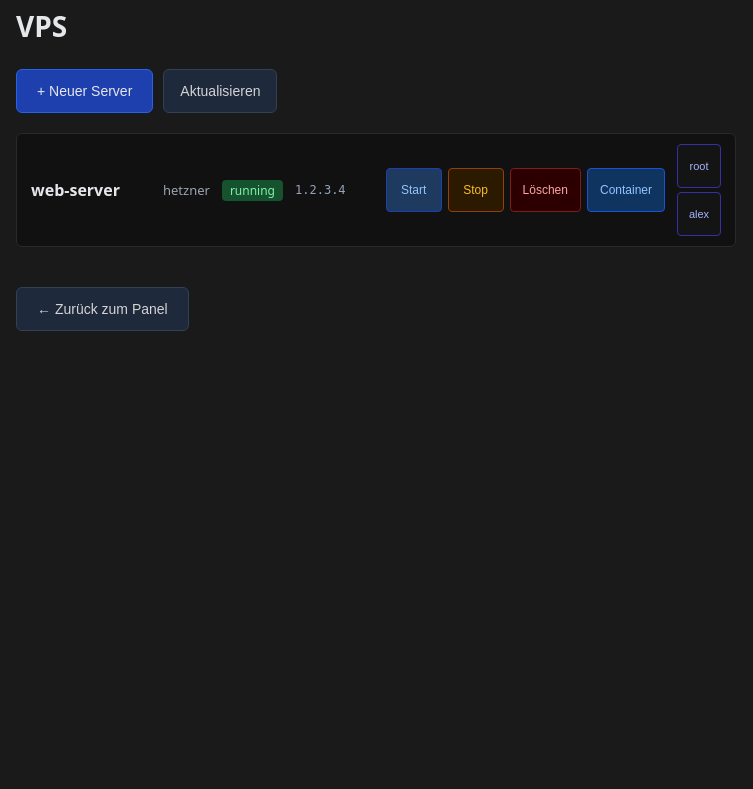
it: VpsContainerOverview — AC4: Aktions-Buttons › 403-Antwort → Berechtigungs-Meldung ohne UI-Crash
Click the button "Container".
click(626, 190)  # box [587, 168, 665, 212]
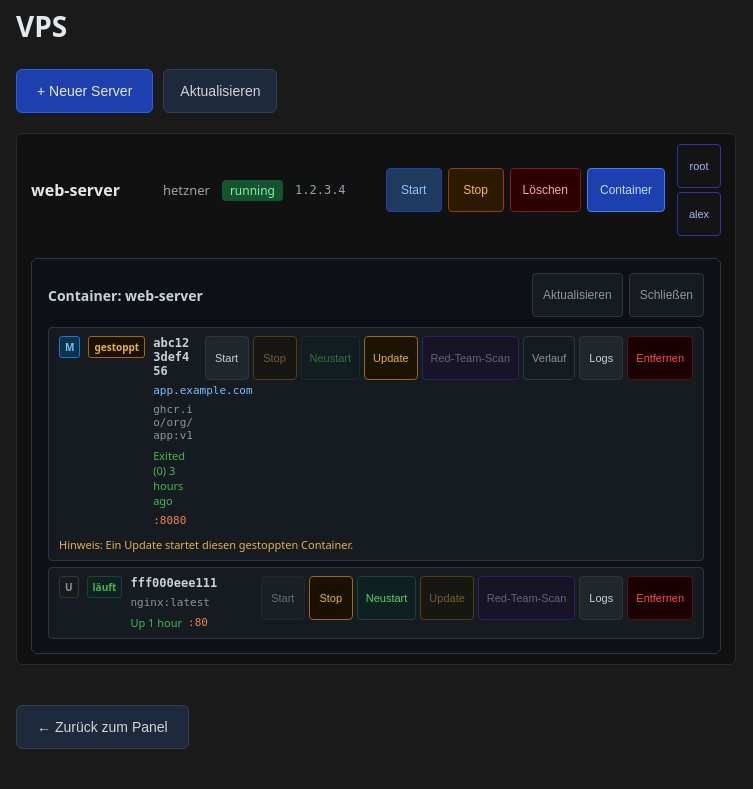
expect the button with aria-label "container abc123def456 starten" is shown: met
Click the button with aria-label "container abc123def456 starten".
click(226, 358)  # box [204, 336, 248, 380]
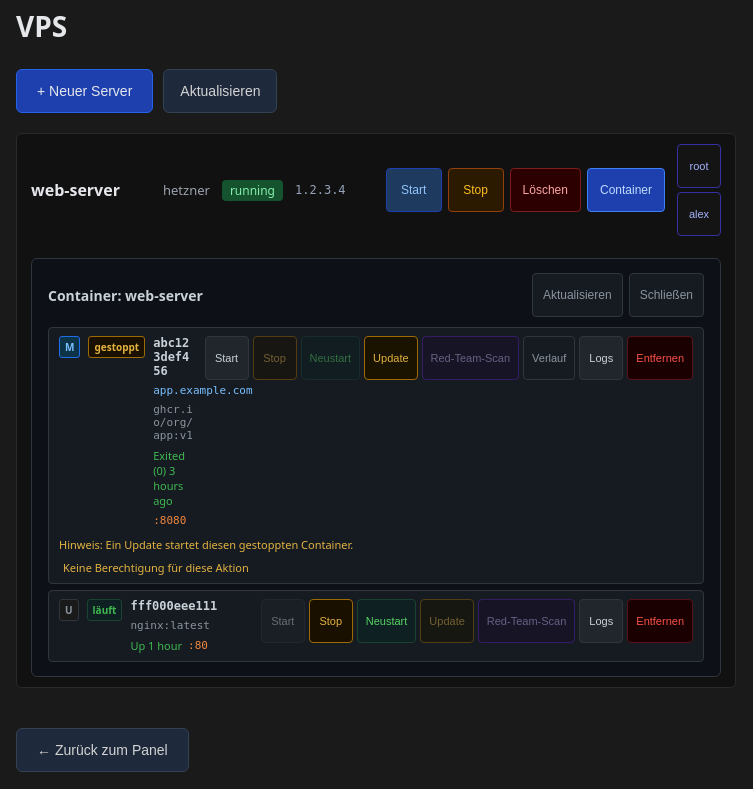
expect the text "web-server" is shown: met, box [31, 179, 120, 201]
expect the text "Keine Berechtigung für diese Aktion" is shown: met, box [63, 560, 249, 575]
